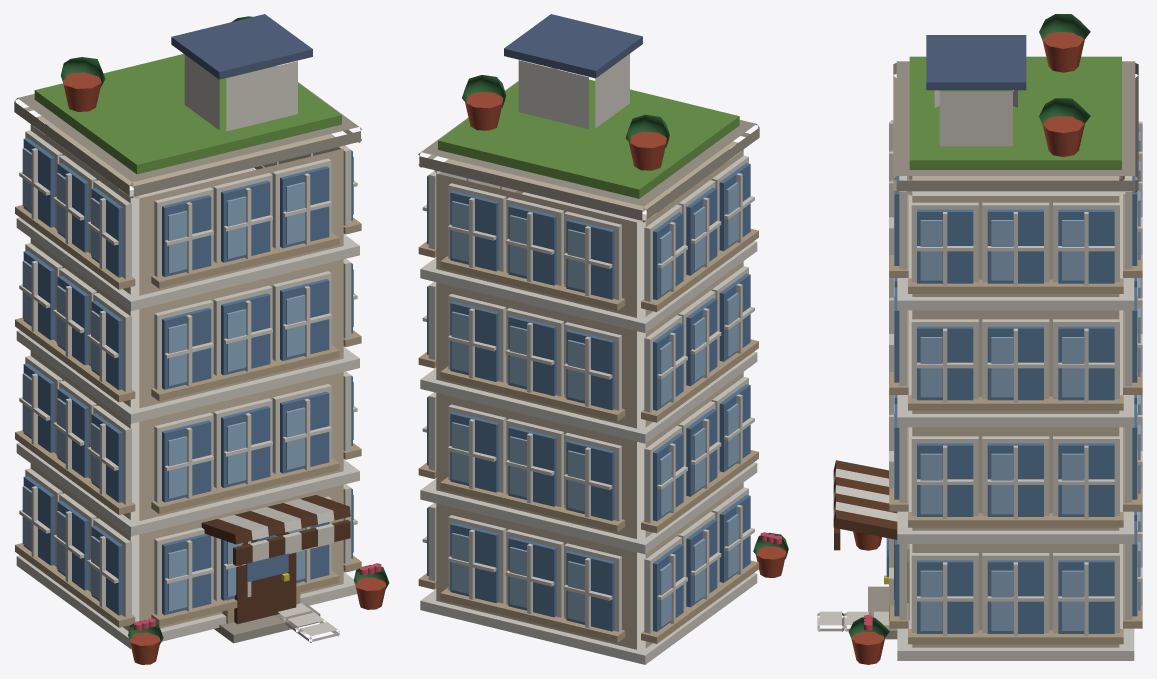
Rendered from office-b.glb.
3 renders of one model, left to right at view 1: azimuth 30°, elevation 25°; view 2: azimuth 150°, elevation 25°; view 3: azimuth 270°, elevation 25°, orthographic. The views are drawn at different scales.
Visible parts, largest first — view 1: office-b; view 2: office-b; view 3: office-b.
Boxes of the visible parts, left/top/right/bottom form: office-b: left=14, top=14, right=389, bottom=664; office-b: left=418, top=14, right=788, bottom=664; office-b: left=817, top=14, right=1142, bottom=664.
Size of the model in its own units: 0.8105 by 1.66 by 0.86.
